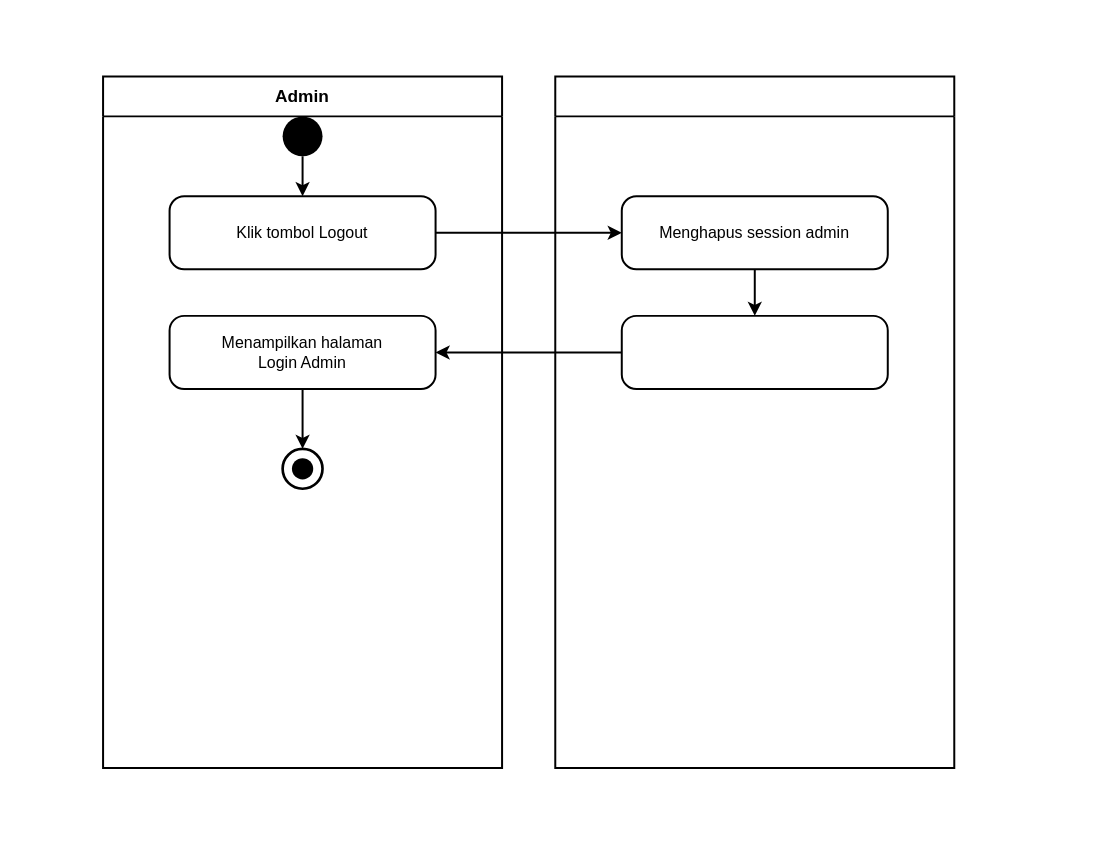
Image size: 1109x843. Some labels were removed from this diagram. The shapes that lost their labels are listed below. From the top down, each one's box as (x1, y1, x2, y2) in pixels, then its label:
(620, 314, 888, 389): Redirect ke halaman Login Admin
(554, 75, 955, 768): Sistem
